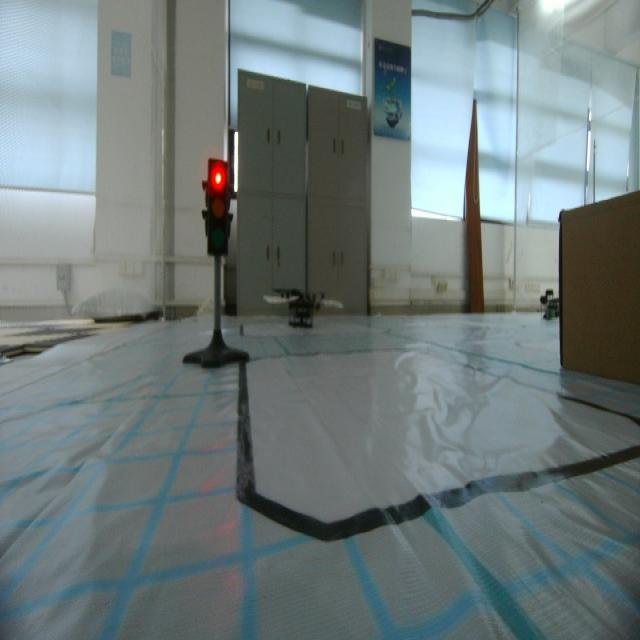red: (203, 157, 235, 258)
